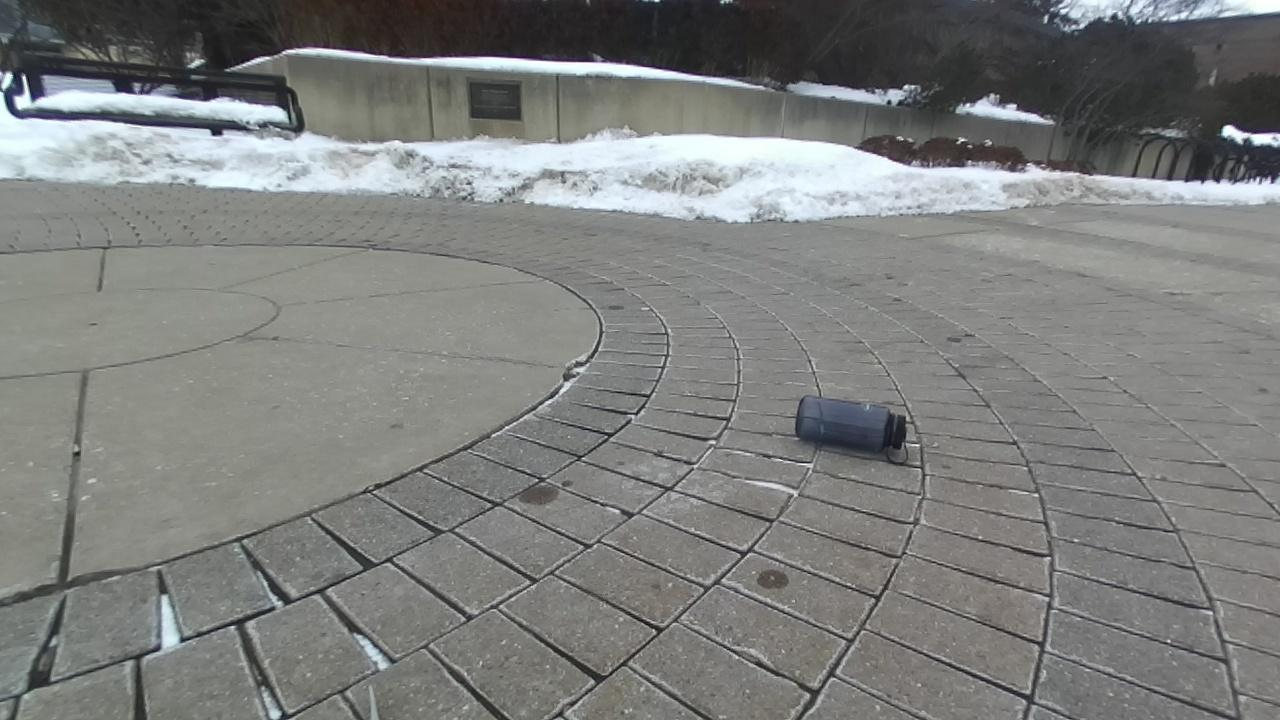bottle: (795, 395, 908, 463)
